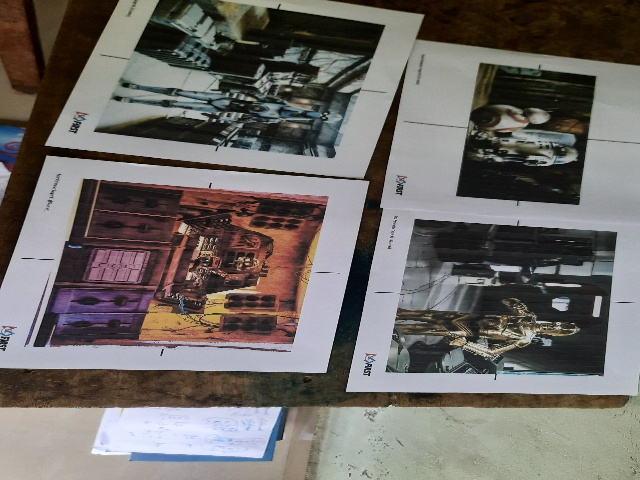fpt1: (139, 1, 352, 164)
fpt2: (421, 48, 622, 213)
rept1: (48, 160, 313, 363)
rpt1: (390, 216, 613, 391)
